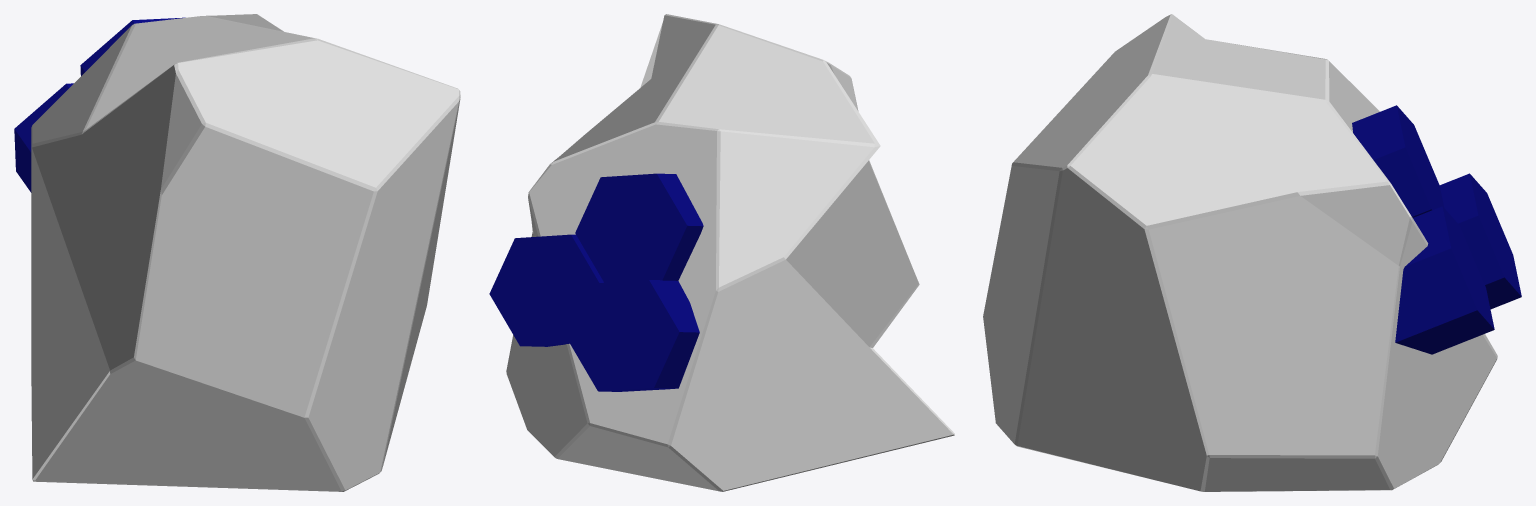
The model's file is StoneRune.fbx.
The picture shows the model from 3 angles, left to right: view 1: azimuth 30°, elevation 25°; view 2: azimuth 150°, elevation 25°; view 3: azimuth 270°, elevation 25°; orthographic projection. The views are drawn at different scales.
Visible parts, largest first — view 1: StoneRune; view 2: StoneRune; view 3: StoneRune.
Part boxes in pixels (x1,y1,x2,y2): StoneRune: [14, 14, 460, 491]; StoneRune: [489, 14, 954, 491]; StoneRune: [983, 14, 1521, 491].
Size of the model in its own units: 216 by 192 by 250.
